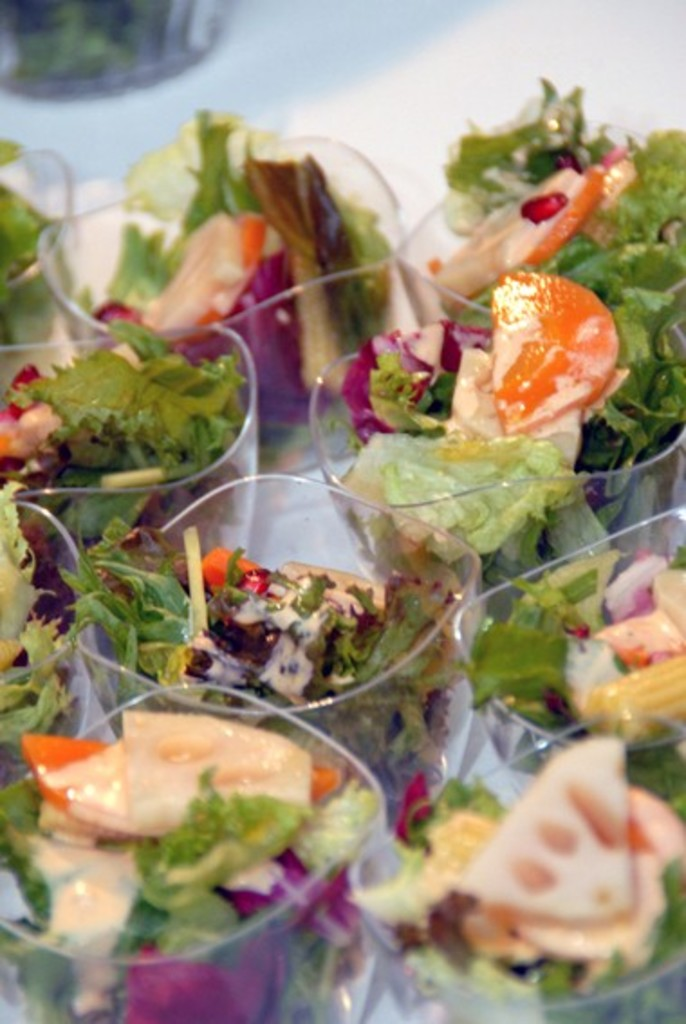salad: (0, 65, 684, 1022)
